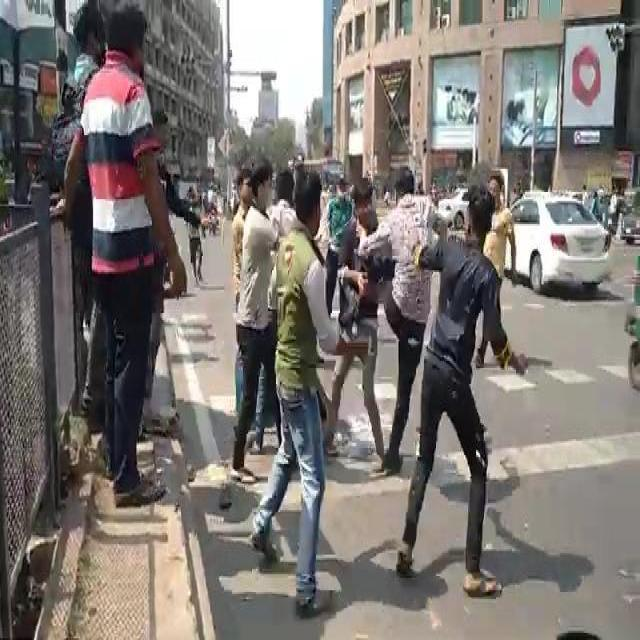fight: (222, 124, 504, 604), (65, 5, 194, 508)
